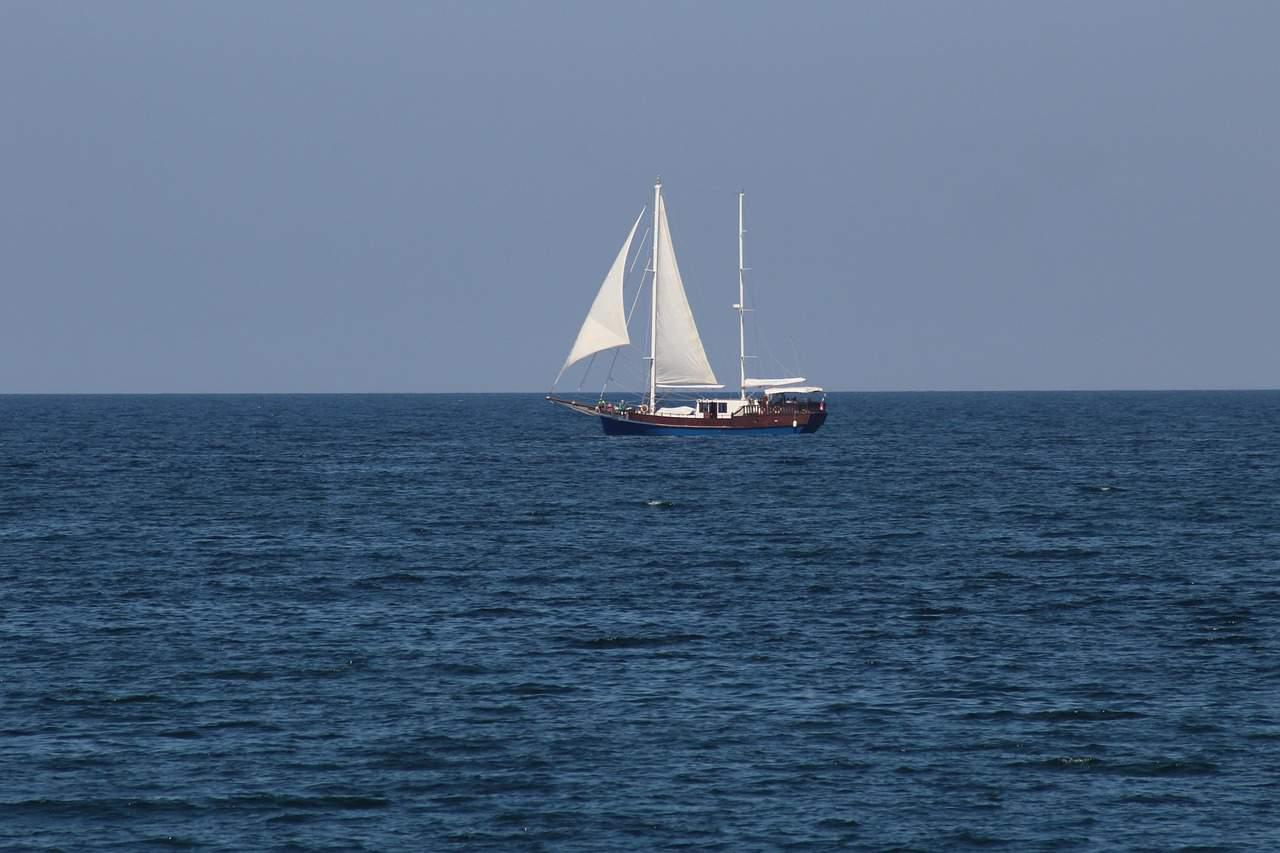Ship: (546, 179, 828, 435)
